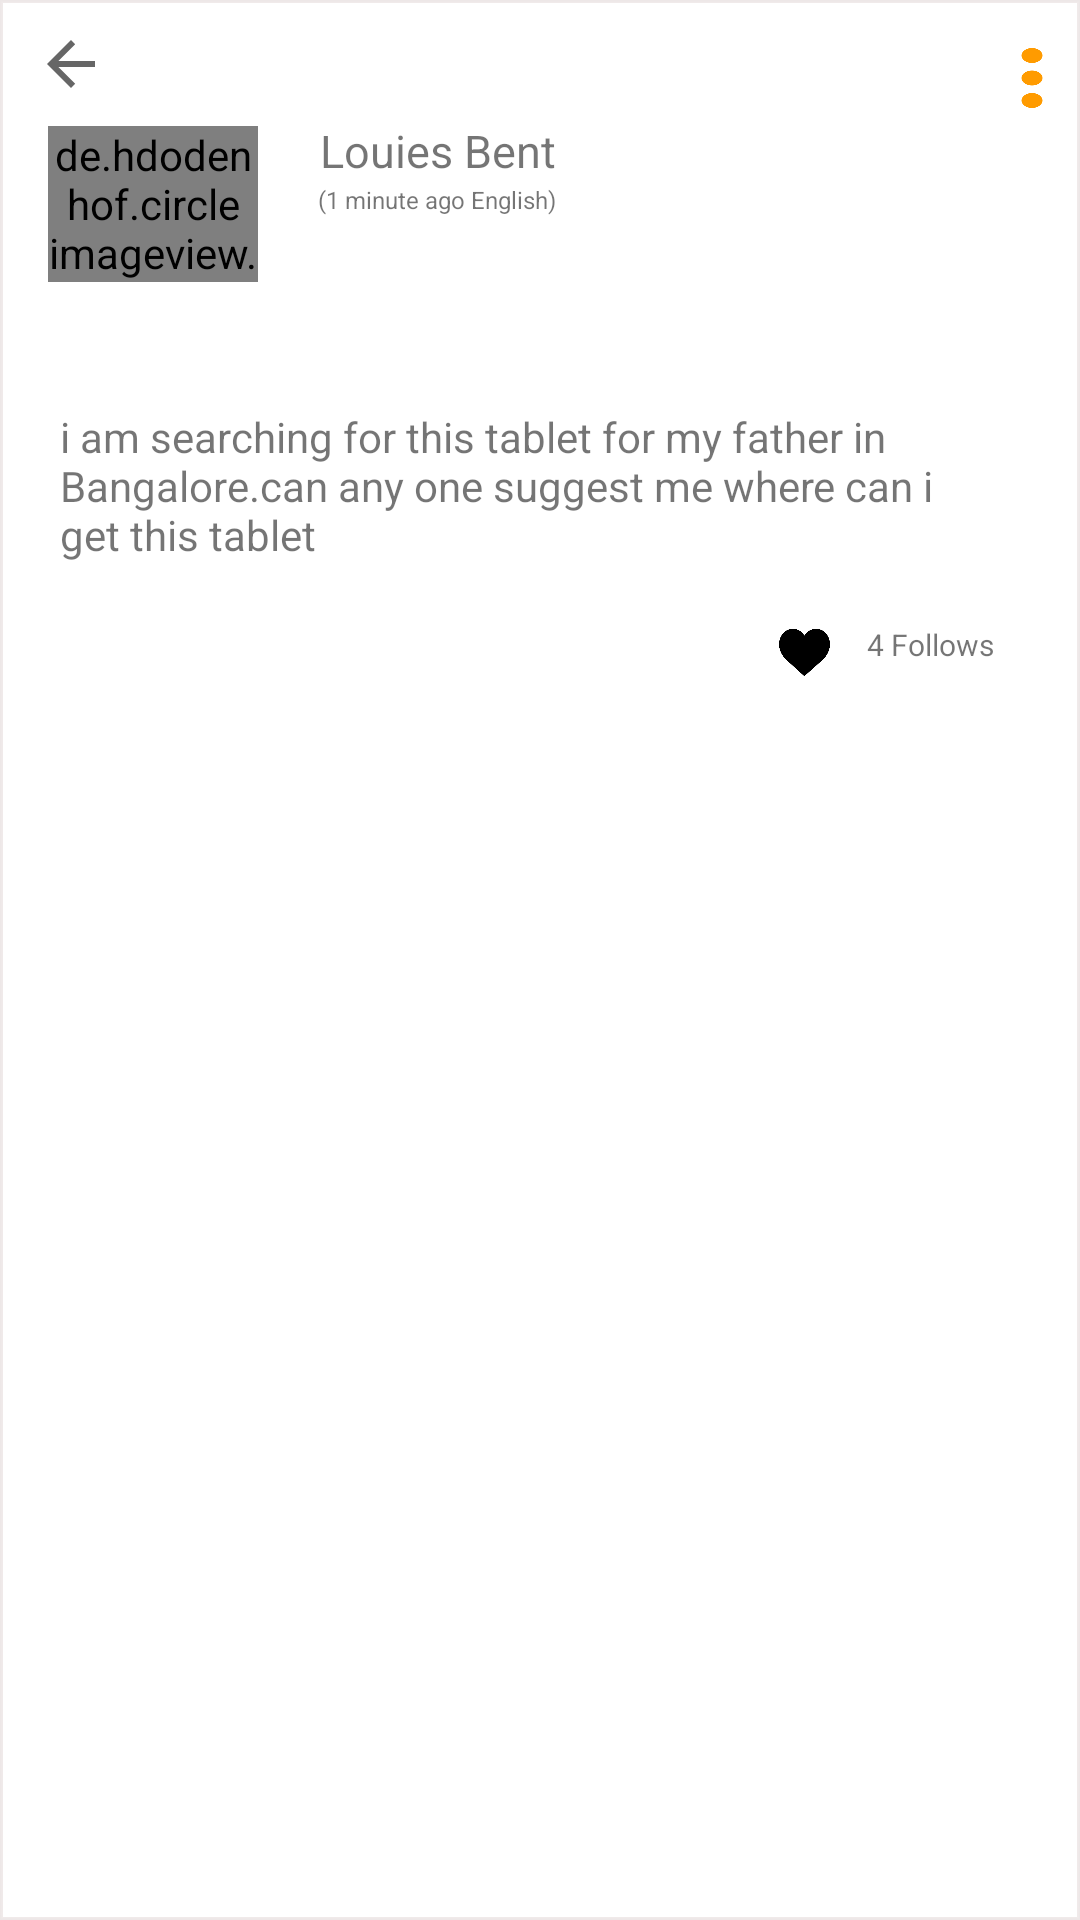

Icons on this 1080w x 1920h Android screen, each with its box as (x1, y1, x2, y2):
heart: (779, 629, 830, 676)
menu: (1021, 48, 1043, 108)
